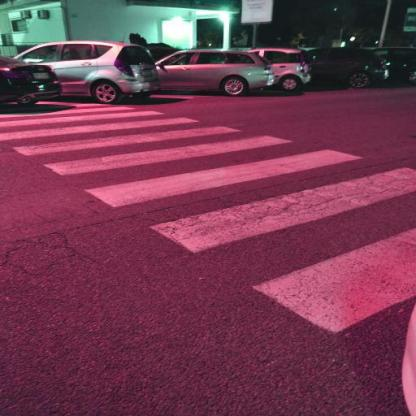crosswalk: (79, 144, 416, 260)
